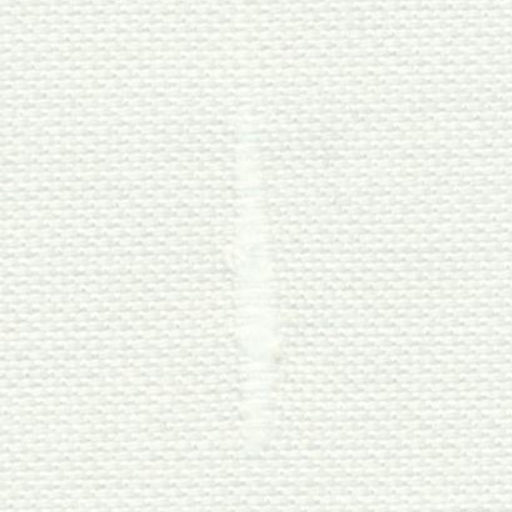DaiSha: (212, 59, 298, 464)
